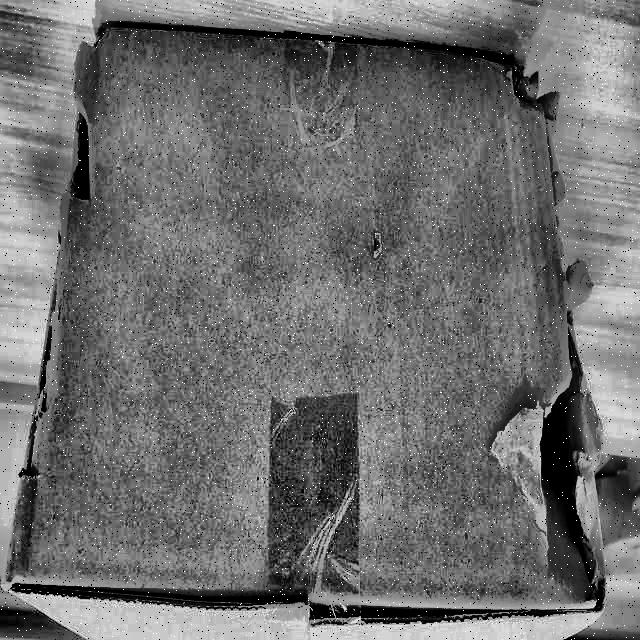box: (0, 7, 623, 640)
hole: (534, 346, 604, 612), (60, 100, 100, 210)
